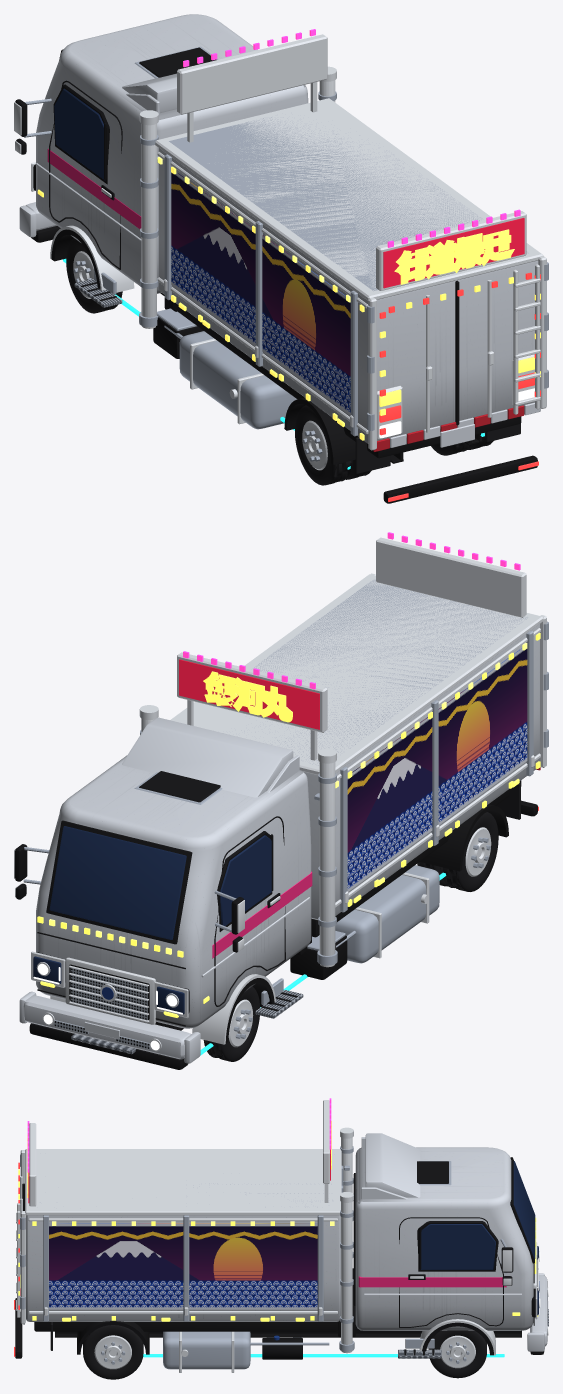
The model's file is dekotora_truck_leve.glb.
The picture shows the model from 3 angles, top to bottom: view 1: azimuth 30°, elevation 25°; view 2: azimuth 150°, elevation 25°; view 3: azimuth 270°, elevation 25°; orthographic projection. The views are drawn at different scales.
Visible parts, largest first — view 1: truck_chrome, truck_paint_white_panel, truck_steel, truck_mural, truck_plastic_black, truck_lamp_amber, truck_paint_white, truck_glass, wheel_r_L_1.5_1.06, truck_andon_panel, wheel_f_L, truck_paint_pink (+5 smaller); view 2: truck_chrome, truck_paint_white_panel, truck_steel, truck_mural, truck_glass, truck_paint_white, truck_plastic_black, truck_lamp_amber, truck_andon_panel, wheel_r_L_1.5_1.06, truck_mesh_perf, wheel_f_L (+3 smaller); view 3: truck_chrome, truck_paint_white_panel, truck_mural, truck_plastic_black, truck_steel, truck_paint_white, truck_glass, wheel_r_R_1.5_1.06, wheel_f_R, truck_paint_pink, truck_lamp_amber, truck_lamp_cyan (+1 smaller).
Boxes of the visible parts, bbox=[...] form: truck_chrome: bbox=[14, 34, 546, 450]; truck_paint_white_panel: bbox=[36, 14, 538, 443]; truck_steel: bbox=[24, 46, 548, 436]; truck_mural: bbox=[171, 172, 350, 415]; truck_plastic_black: bbox=[15, 47, 537, 503]; truck_lamp_amber: bbox=[37, 166, 540, 440]; truck_paint_white: bbox=[19, 73, 540, 447]; truck_glass: bbox=[54, 88, 105, 180]; wheel_r_L_1.5_1.06: bbox=[295, 405, 352, 485]; truck_andon_panel: bbox=[383, 218, 524, 288]; wheel_f_L: bbox=[66, 238, 122, 313]; truck_paint_pink: bbox=[47, 148, 141, 228]; truck_chrome: bbox=[14, 537, 546, 1051]; truck_paint_white_panel: bbox=[36, 624, 539, 1028]; truck_steel: bbox=[23, 579, 548, 1005]; truck_mural: bbox=[347, 648, 527, 891]; truck_glass: bbox=[33, 826, 271, 1014]; truck_paint_white: bbox=[19, 717, 309, 1063]; truck_plastic_black: bbox=[15, 771, 537, 1069]; truck_lamp_amber: bbox=[37, 633, 540, 1017]; truck_andon_panel: bbox=[179, 659, 319, 729]; wheel_r_L_1.5_1.06: bbox=[440, 812, 498, 891]; truck_mesh_perf: bbox=[70, 968, 147, 1020]; wheel_f_L: bbox=[203, 986, 259, 1061]; truck_chrome: bbox=[16, 1100, 548, 1372]; truck_paint_white_panel: bbox=[26, 1147, 533, 1330]; truck_mural: bbox=[49, 1223, 317, 1309]; truck_plastic_black: bbox=[15, 1157, 544, 1359]; truck_steel: bbox=[20, 1146, 506, 1369]; truck_paint_white: bbox=[23, 1133, 548, 1351]; truck_glass: bbox=[421, 1161, 538, 1315]; wheel_r_R_1.5_1.06: bbox=[83, 1325, 143, 1379]; wheel_f_R: bbox=[428, 1330, 486, 1378]; truck_paint_pink: bbox=[358, 1276, 506, 1287]; truck_lamp_amber: bbox=[18, 1121, 538, 1321]; truck_lamp_cyan: bbox=[143, 1354, 504, 1357].
Size of the model in its own units: 3.28 by 4.32 by 9.16.
Materials: 21 (5 with a texture image).
